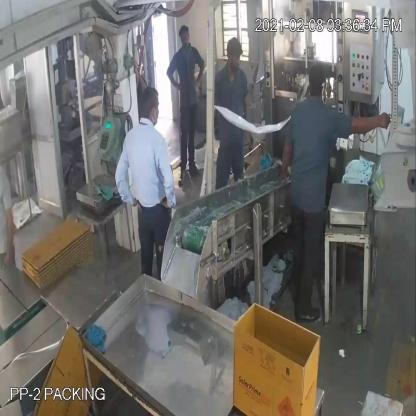no_glove: (332, 107, 393, 144), (113, 139, 139, 219), (155, 140, 179, 214), (0, 190, 21, 269), (280, 130, 297, 185), (164, 57, 184, 94), (195, 52, 210, 93)
